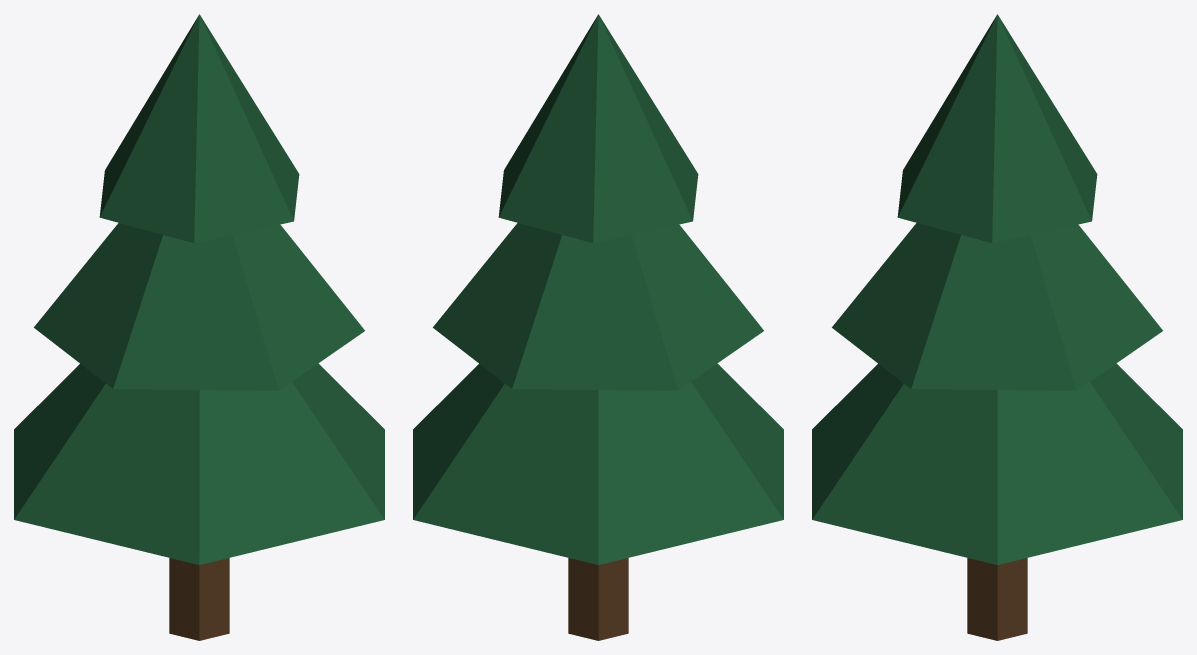
File: tree.obj
The picture shows the model from 3 angles, left to right: view 1: azimuth 30°, elevation 25°; view 2: azimuth 150°, elevation 25°; view 3: azimuth 270°, elevation 25°; orthographic projection.
Visible parts, largest first — view 1: part_1, part_2, part_3, part_0; view 2: part_1, part_2, part_3, part_0; view 3: part_1, part_2, part_3, part_0.
Boxes of the visible parts, left/top/right/bottom form: part_1: left=14, top=363, right=384, bottom=564; part_2: left=34, top=223, right=364, bottom=390; part_3: left=99, top=14, right=299, bottom=243; part_0: left=169, top=558, right=229, bottom=640; part_1: left=413, top=363, right=783, bottom=564; part_2: left=433, top=223, right=763, bottom=390; part_3: left=498, top=14, right=698, bottom=243; part_0: left=568, top=558, right=628, bottom=640; part_1: left=812, top=363, right=1182, bottom=564; part_2: left=832, top=223, right=1162, bottom=390; part_3: left=897, top=14, right=1097, bottom=243; part_0: left=967, top=558, right=1027, bottom=640.
Size of the model in its own units: 1.6 by 2.53 by 1.39.
